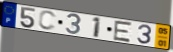1: (91, 16, 101, 40)
3: (65, 13, 83, 36), (137, 24, 153, 46)
5: (20, 6, 37, 29)
C: (38, 10, 58, 32)
E: (112, 19, 134, 44)
